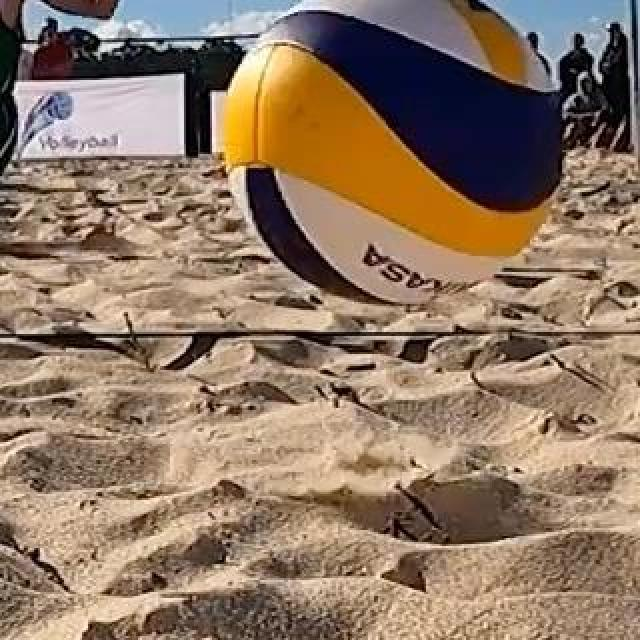volleyball: (216, 0, 566, 310)
